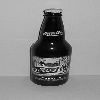beer: (23, 6, 75, 86)
